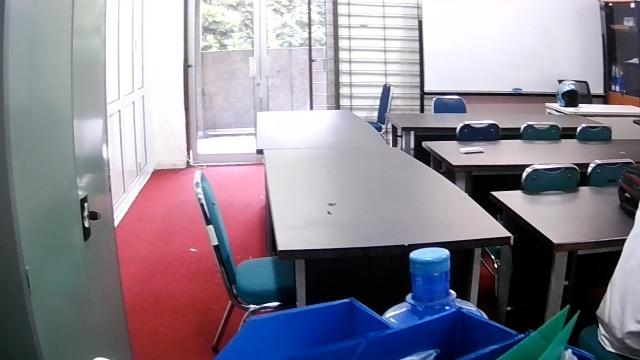Kursi: (192, 168, 296, 350), (364, 80, 393, 131)
Lemari: (0, 0, 136, 358)
Meja: (262, 143, 513, 286), (488, 180, 637, 315), (420, 137, 639, 188), (384, 111, 608, 130)
Whiteboard: (419, 0, 604, 97)
